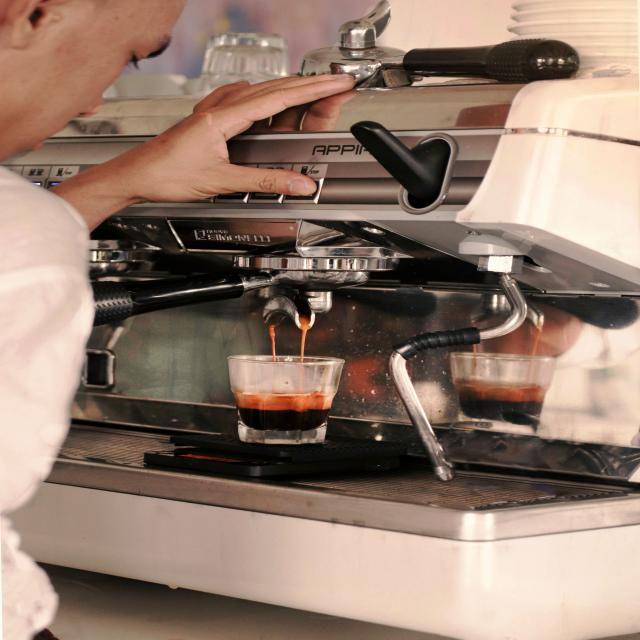drink: (226, 348, 343, 433)
